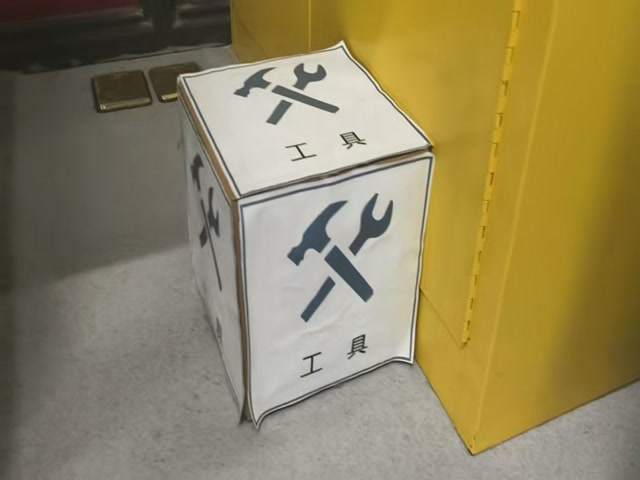Cube_tool: (179, 44, 432, 198)
